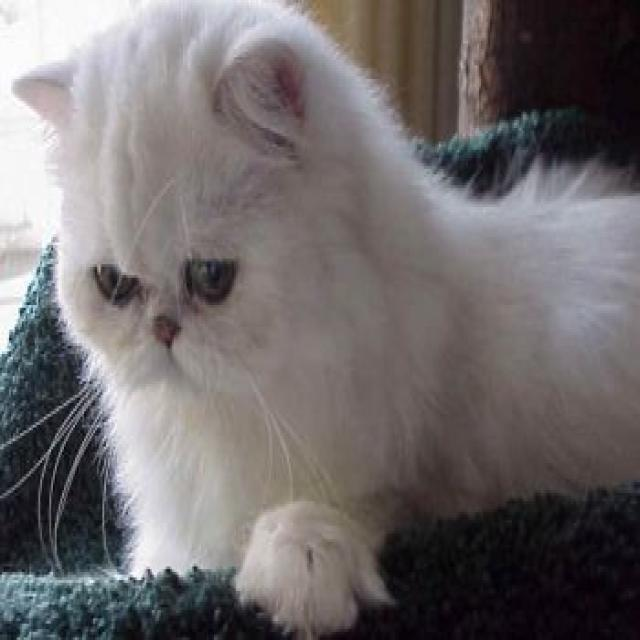Persian: (8, 0, 347, 395)
